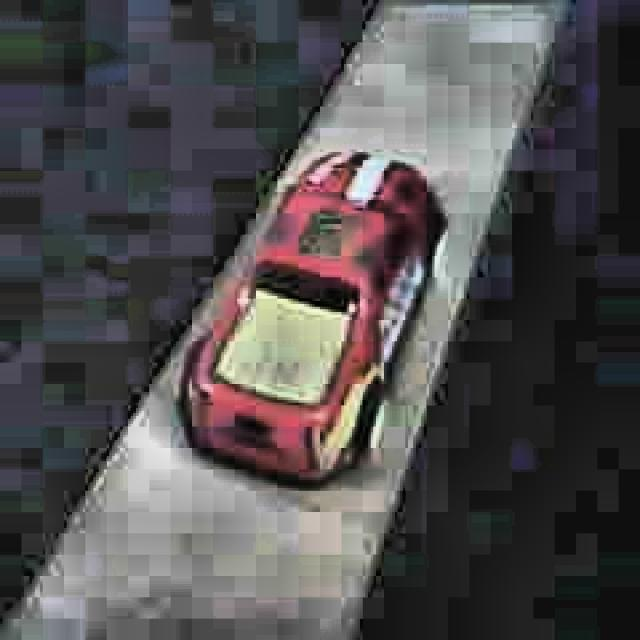car: (175, 148, 452, 495)
